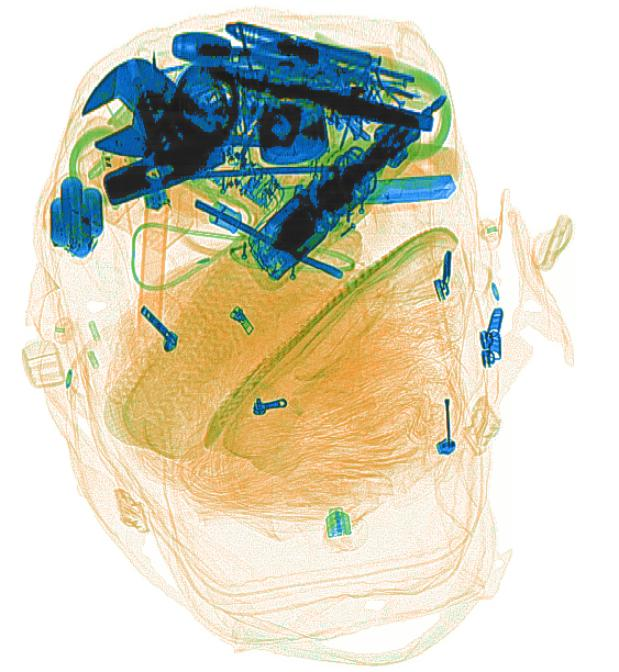battery: (49, 175, 106, 256)
